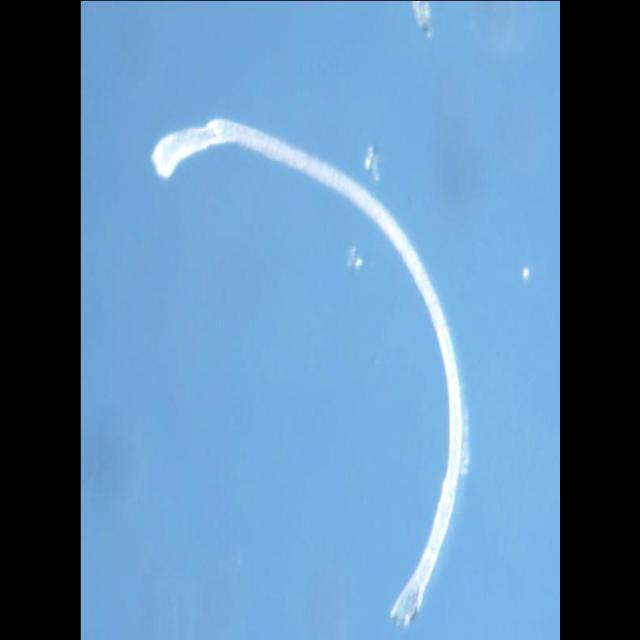Fibre: (150, 116, 466, 628)
